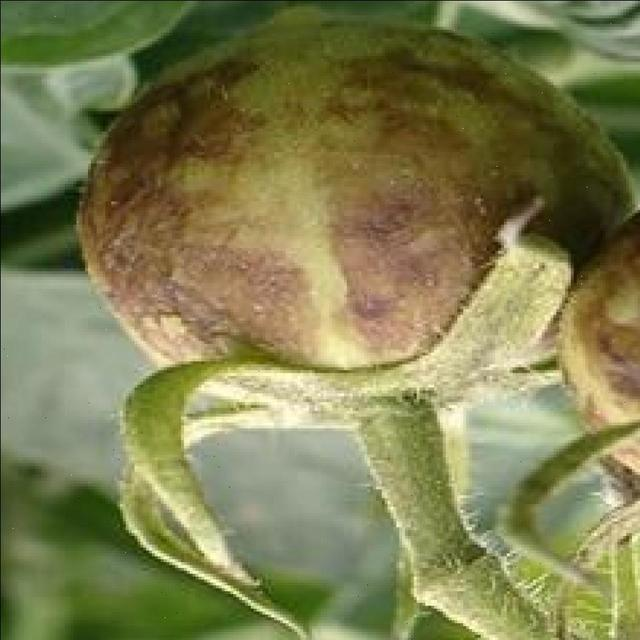Spotted wilt Virus Fruit: (54, 148, 400, 270)
